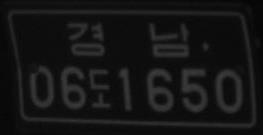0: (214, 68, 243, 114), (28, 63, 55, 109)
1: (114, 67, 136, 111)
5: (179, 66, 209, 113)
6: (145, 67, 174, 113), (59, 65, 87, 110)
경남_D: (66, 22, 191, 58)
도: (87, 67, 113, 108)
